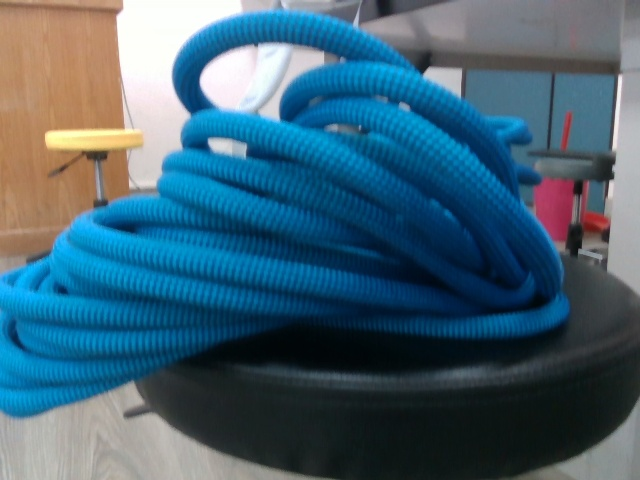rope: (2, 10, 575, 426)
